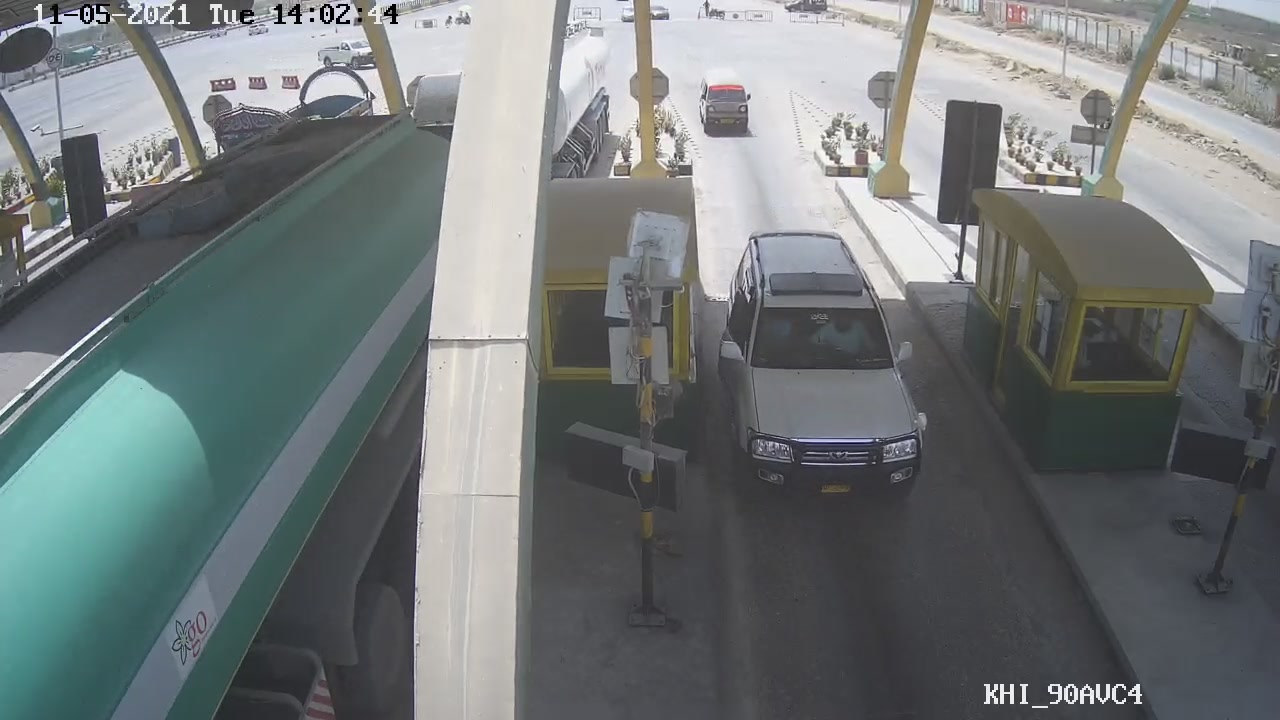F1: (713, 224, 935, 508)
